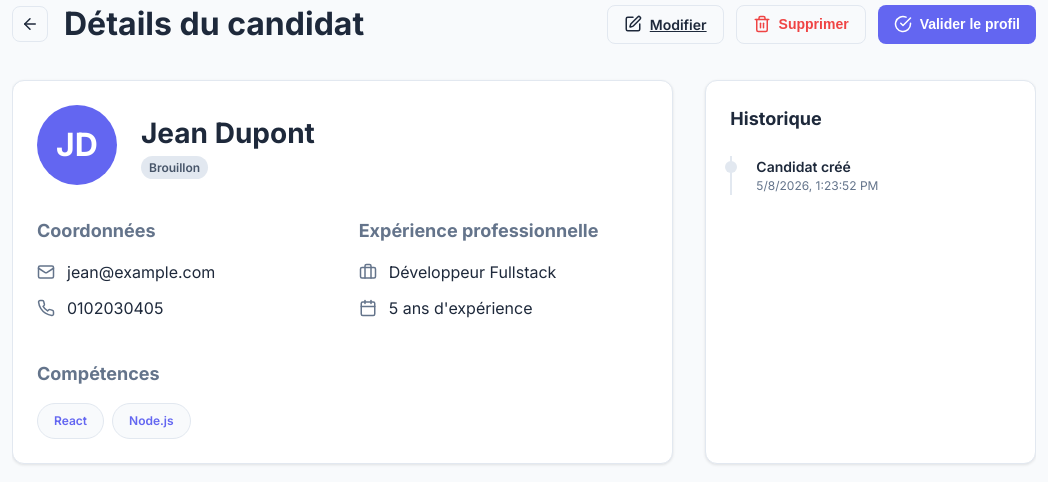
Scenario: CandidateDetailPage › handles validation successfully
Click the button "Valider le profil" at point(957, 24), box x1=878 y1=4 x2=1036 y2=44
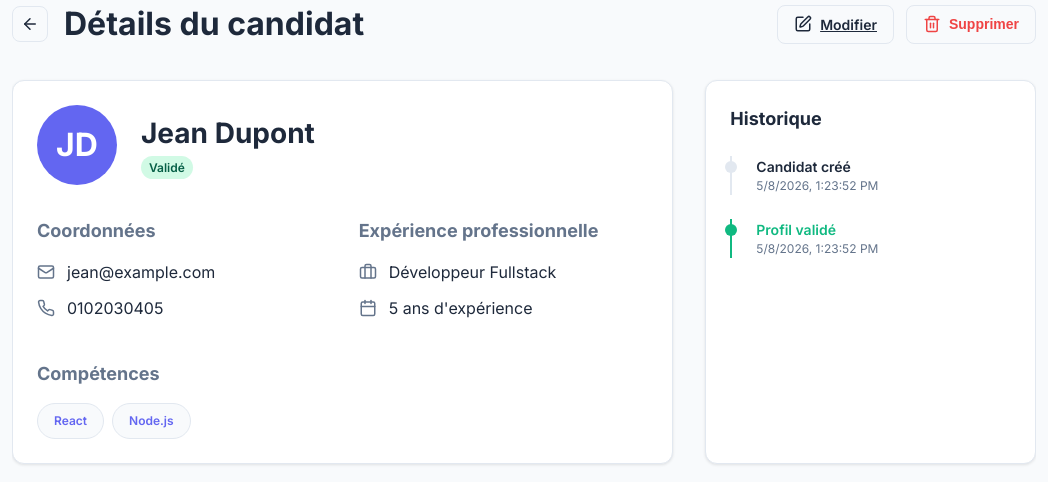
Now the button "Valider le profil" is gone
